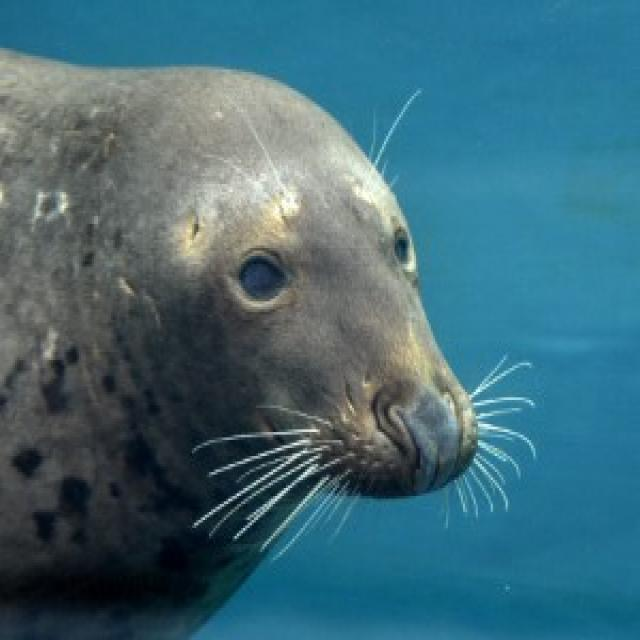Seal: (0, 50, 501, 600)
